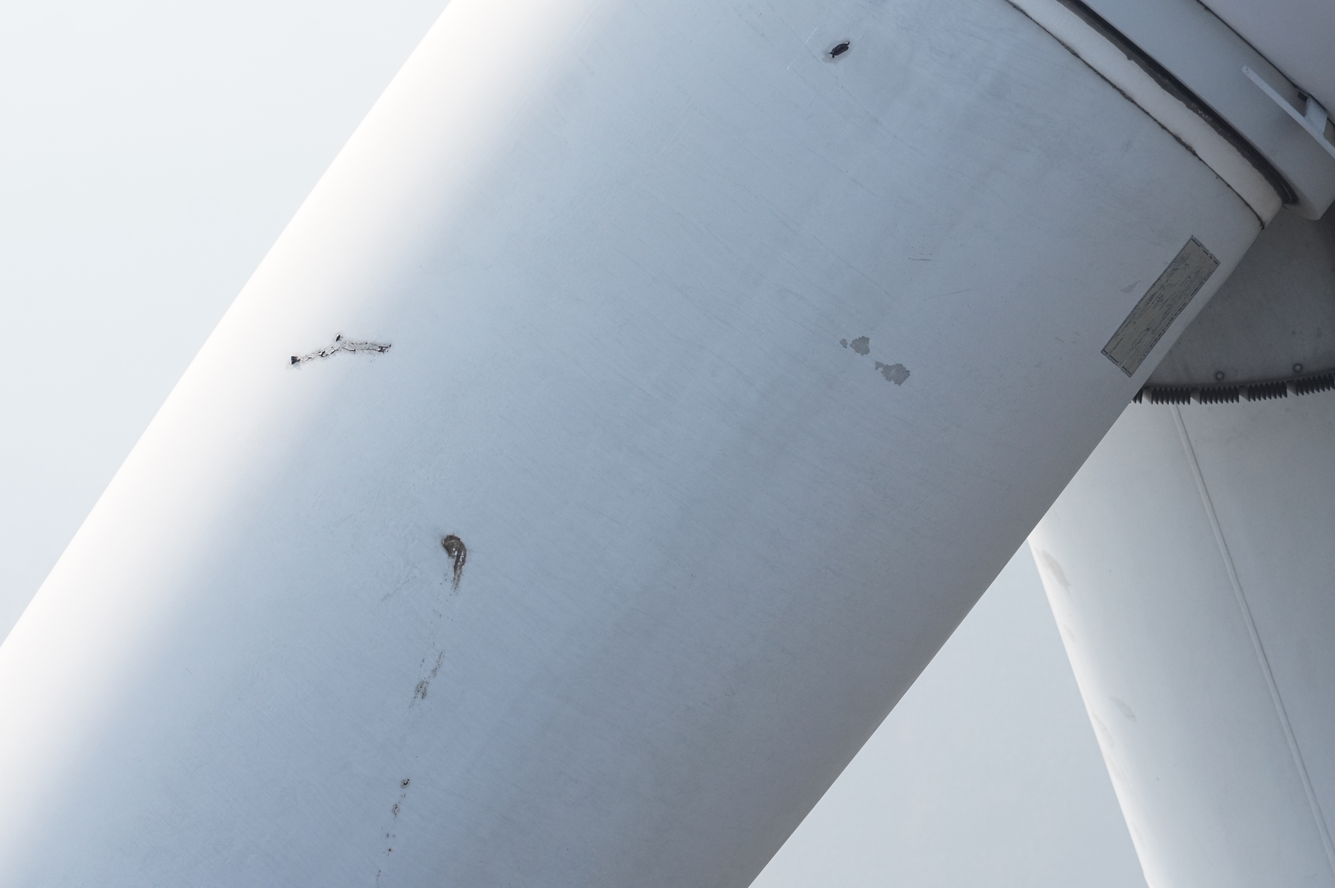Dirt: (290, 333, 395, 365), (440, 532, 468, 596), (829, 40, 852, 57)
